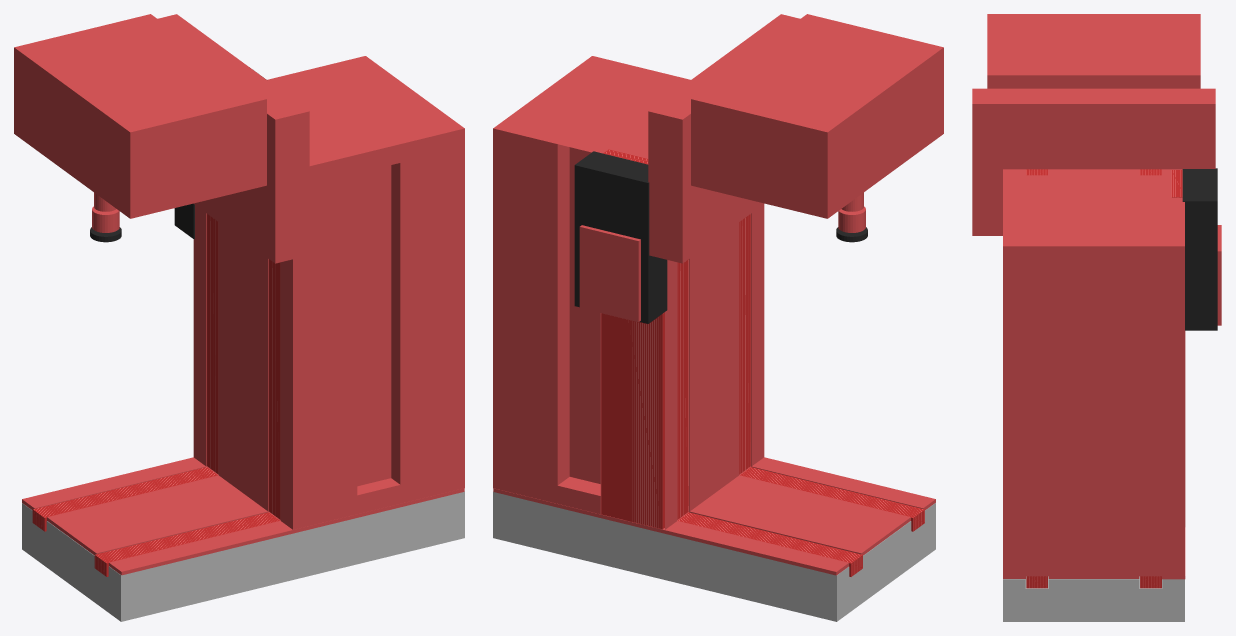
File: torre.fbx
The picture shows the model from 3 angles, left to right: view 1: azimuth 30°, elevation 25°; view 2: azimuth 150°, elevation 25°; view 3: azimuth 270°, elevation 25°; orthographic projection. The views are drawn at different scales.
Visible parts, largest first — view 1: Cube.004, Cube.006, Cube, Cube.003, Cube.002, Cube.011, Cube.010, Cube.001, Cube.005, Cube.009, Cylinder.002; view 2: Cube.004, Cube.006, Cube, Cube.012, Cube.003, Cube.007, Cube.008, Cube.001, Cube.010, Cube.011, Cube.002, Cube.005 (+2 smaller); view 3: Cube.004, Cube.006, Cube, Cube.007, Cube.012, Cube.008.
Part boxes in pixels (x1=…): Cube.004: x1=193, y1=56, x2=464, y2=529; Cube.006: x1=14, y1=14, x2=309, y2=263; Cube: x1=22, y1=491, x2=464, y2=621; Cube.003: x1=47, y1=475, x2=268, y2=555; Cube.002: x1=109, y1=488, x2=464, y2=575; Cube.011: x1=269, y1=259, x2=280, y2=519; Cube.010: x1=207, y1=214, x2=218, y2=474; Cube.001: x1=22, y1=457, x2=206, y2=510; Cube.005: x1=32, y1=467, x2=217, y2=531; Cube.009: x1=94, y1=512, x2=279, y2=576; Cylinder.002: x1=92, y1=206, x2=119, y2=232; Cube.004: x1=493, y1=56, x2=764, y2=529; Cube.006: x1=648, y1=14, x2=943, y2=263; Cube: x1=493, y1=492, x2=935, y2=621; Cube.012: x1=601, y1=149, x2=664, y2=529; Cube.003: x1=689, y1=475, x2=910, y2=555; Cube.007: x1=574, y1=151, x2=667, y2=323; Cube.008: x1=579, y1=225, x2=640, y2=322; Cube.001: x1=493, y1=488, x2=848, y2=575; Cube.010: x1=677, y1=259, x2=688, y2=519; Cube.011: x1=739, y1=214, x2=750, y2=474; Cube.002: x1=751, y1=457, x2=935, y2=510; Cube.005: x1=678, y1=512, x2=862, y2=576; Cube.004: x1=1003, y1=169, x2=1184, y2=576; Cube.006: x1=972, y1=14, x2=1215, y2=235; Cube: x1=1003, y1=576, x2=1184, y2=621; Cube.007: x1=1182, y1=168, x2=1217, y2=330; Cube.012: x1=1171, y1=170, x2=1185, y2=526; Cube.008: x1=1217, y1=225, x2=1221, y2=325.
Bounding box in the file's own units: 1005 × 1378 × 686.
